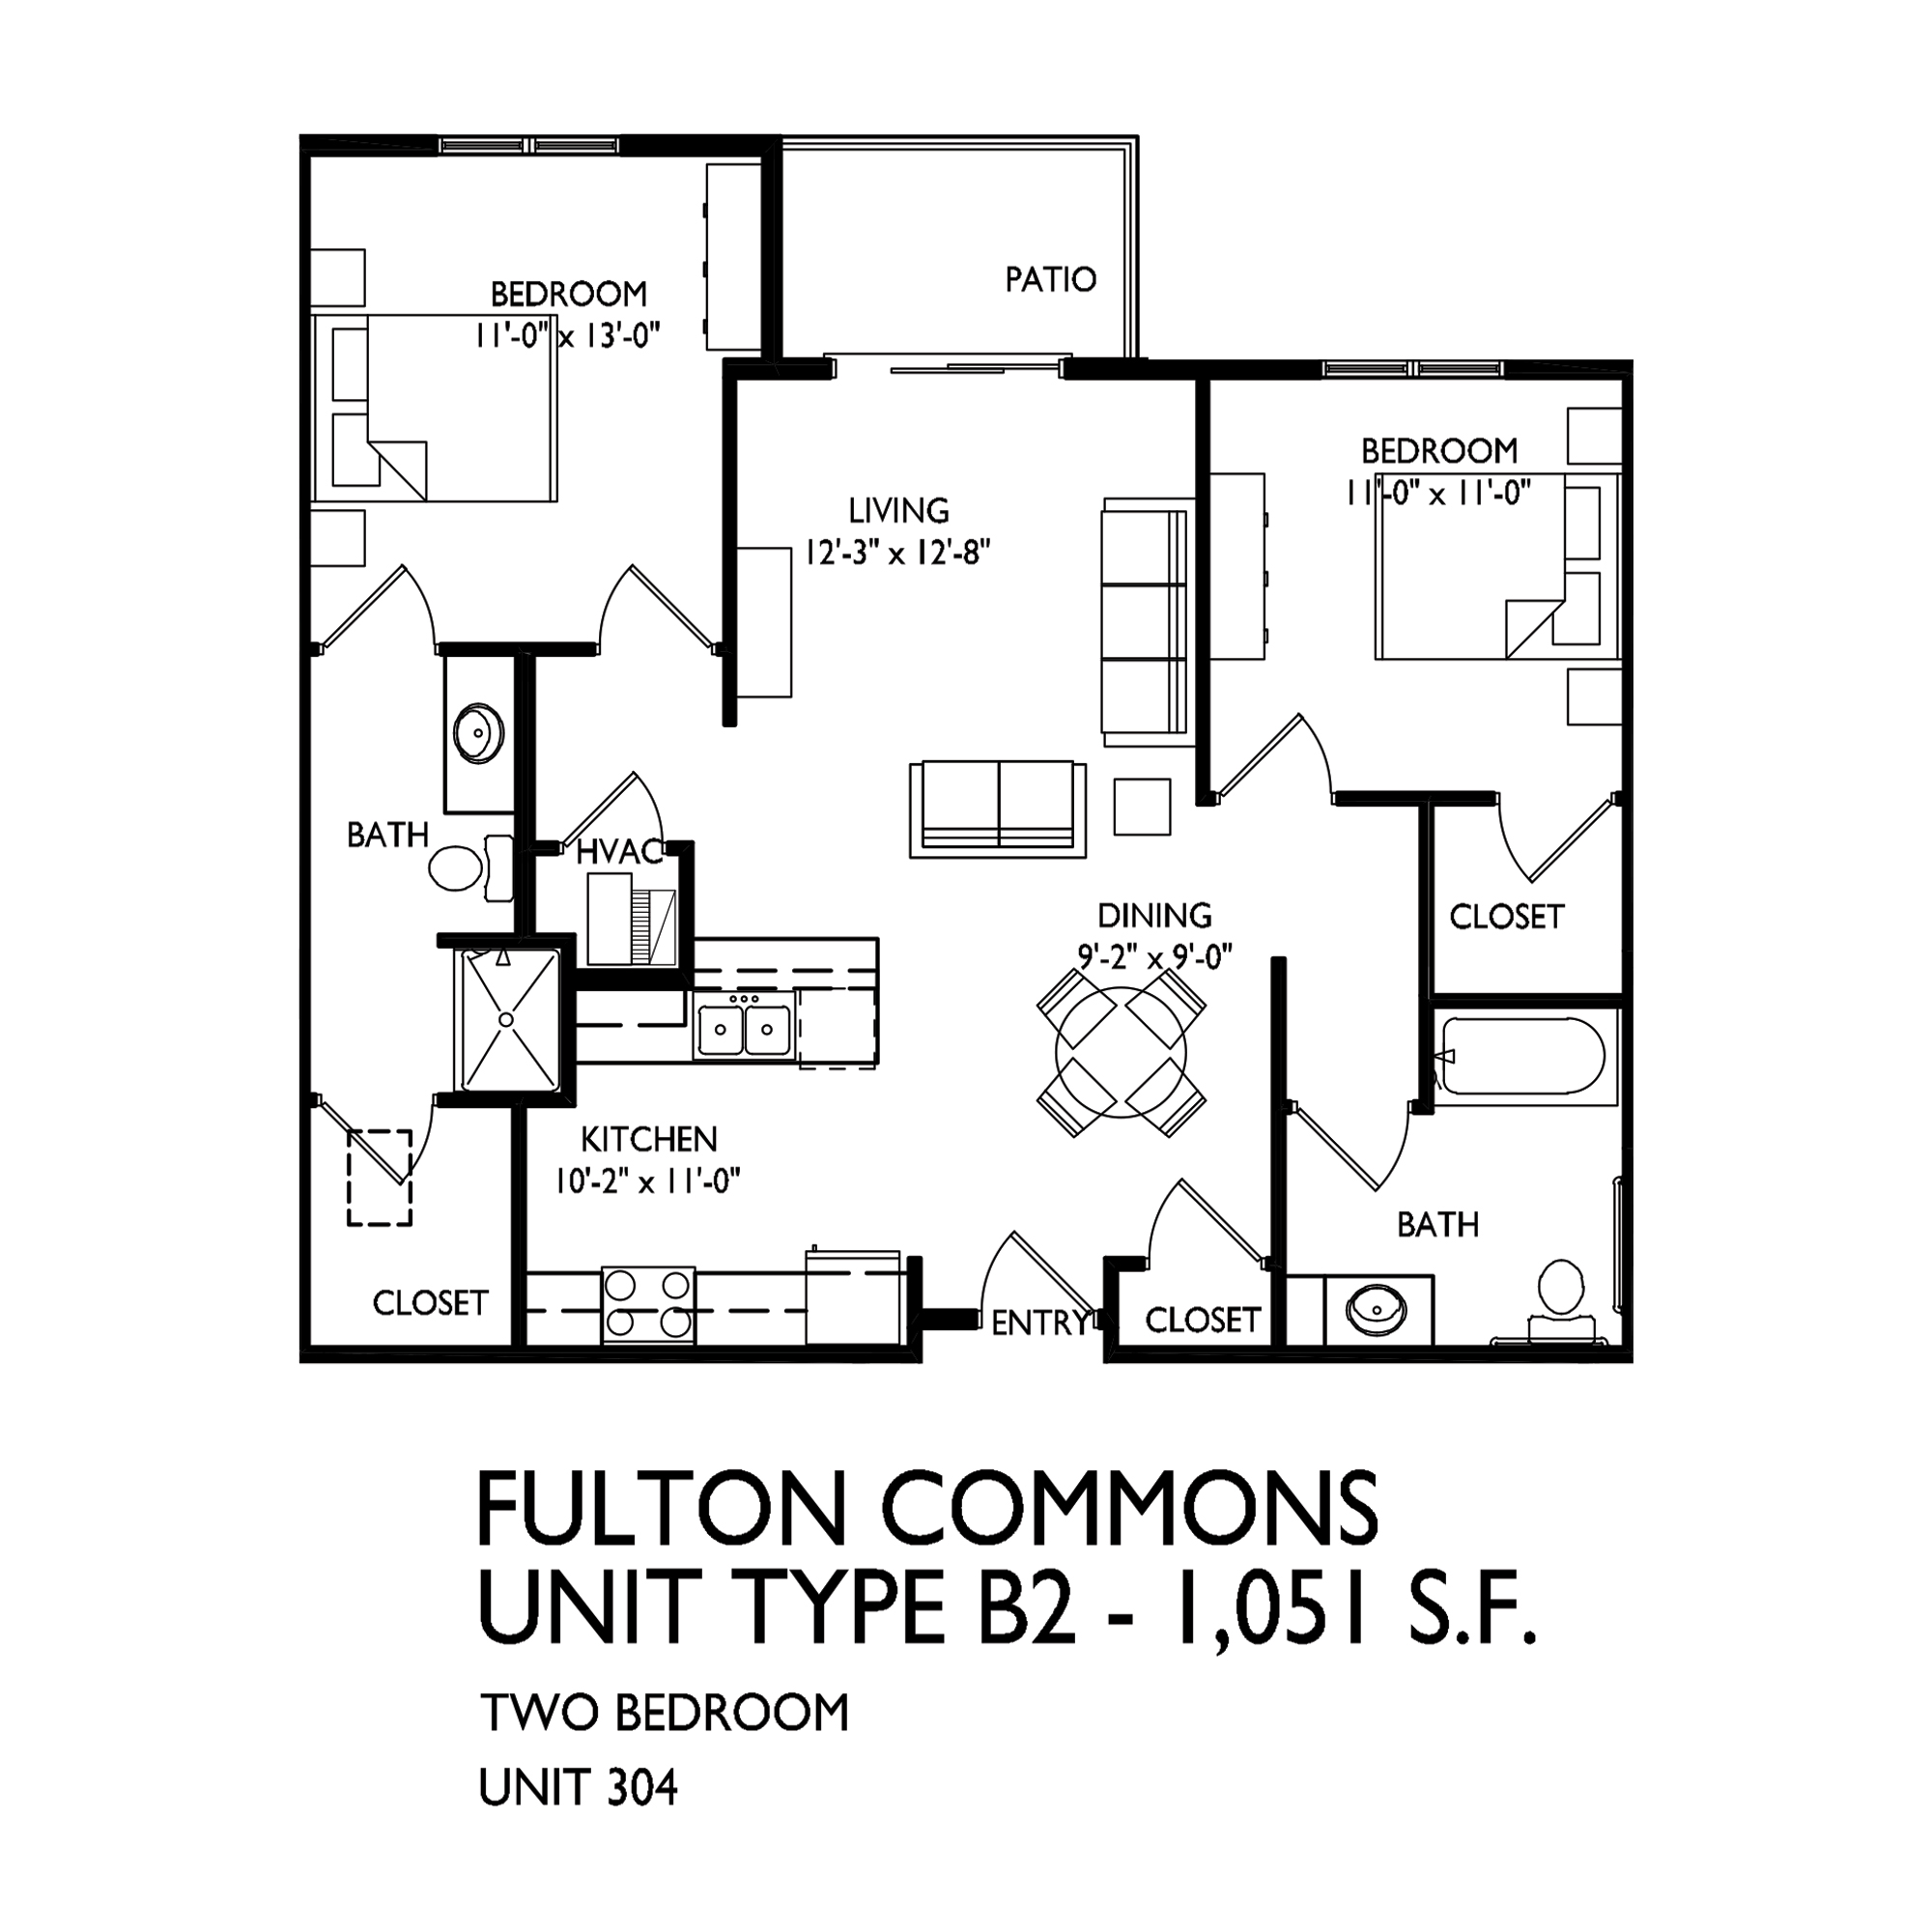door: (320, 1106, 449, 1196), (584, 557, 717, 642), (1295, 1115, 1422, 1200), (973, 1219, 1099, 1304), (1138, 1171, 1265, 1254), (1223, 702, 1339, 791), (1488, 805, 1612, 885), (334, 561, 451, 639), (561, 764, 681, 835)
